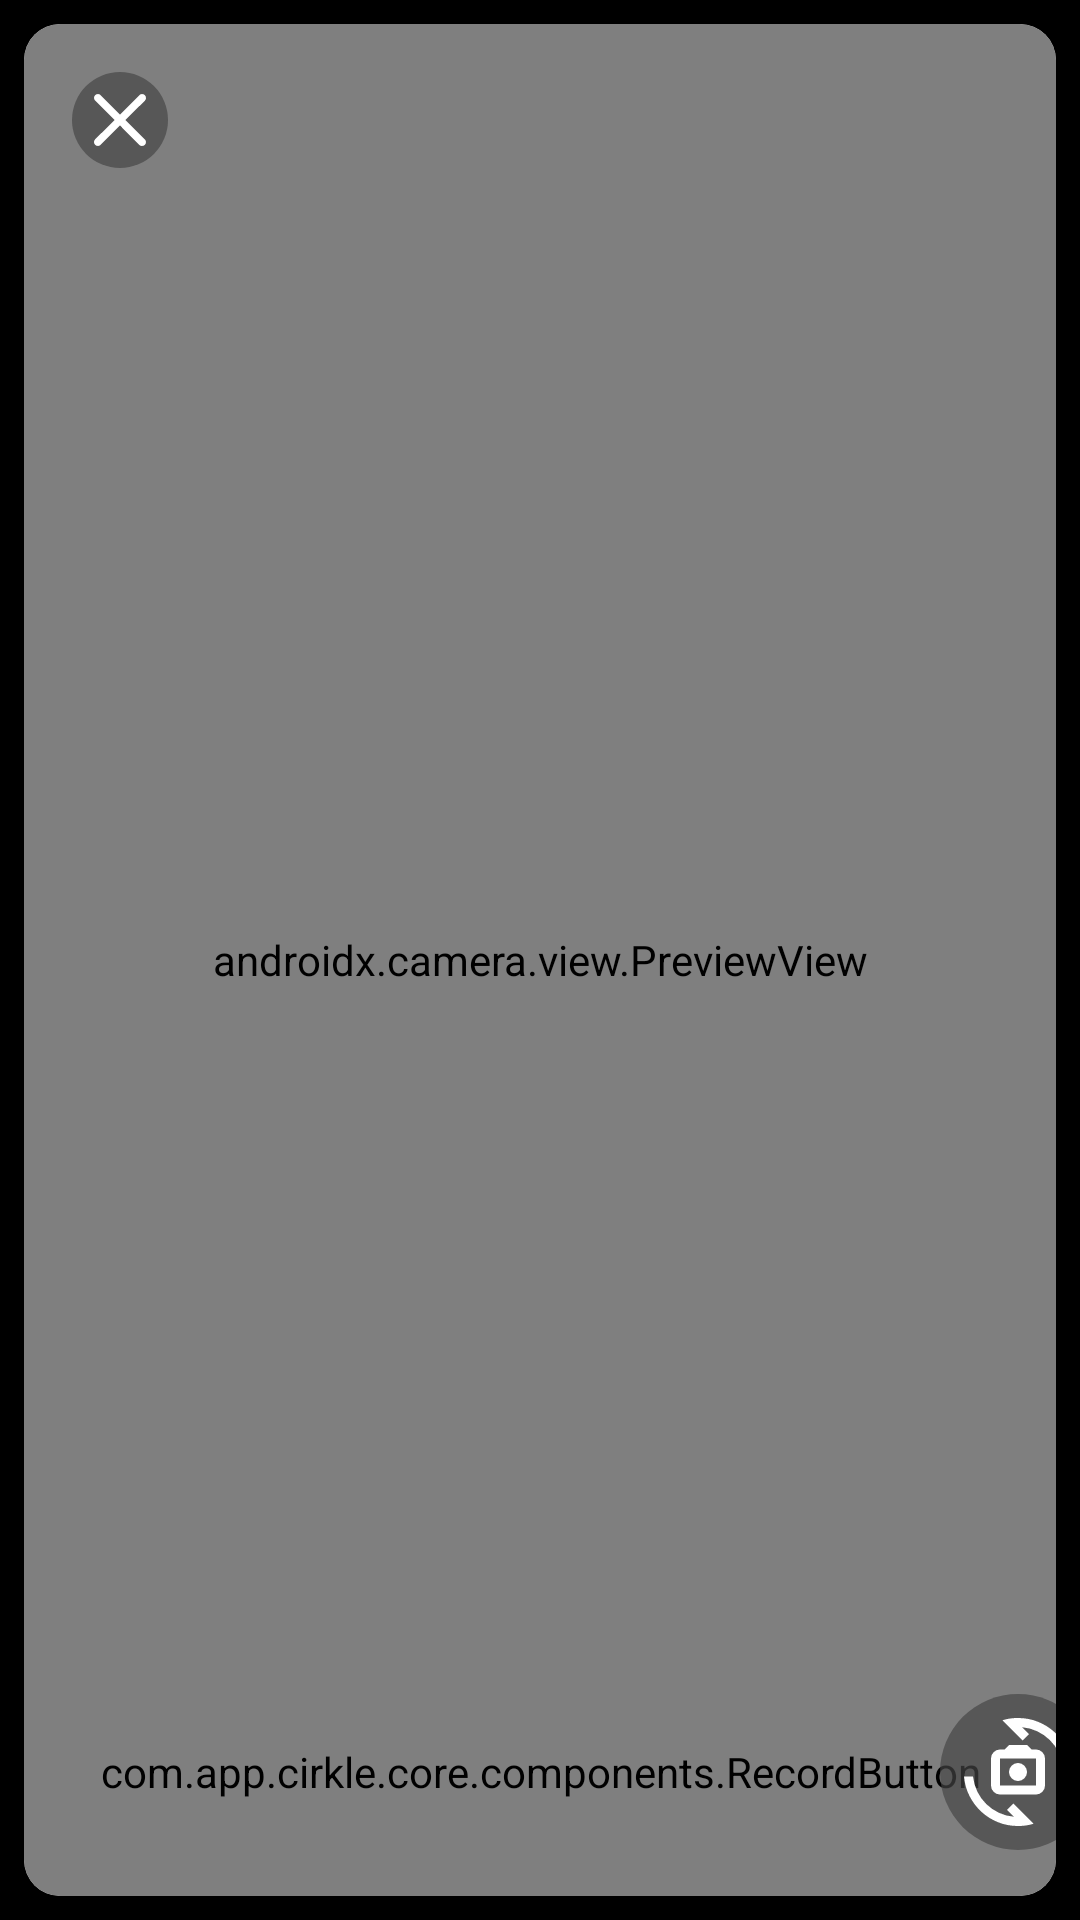

Icon bounding boxes for this 1080×1920 phone screenshot, format {"left": x1, "top": y1, "right": x2, "bottom": y2}:
closebtn: {"left": 72, "top": 72, "right": 168, "bottom": 168}
